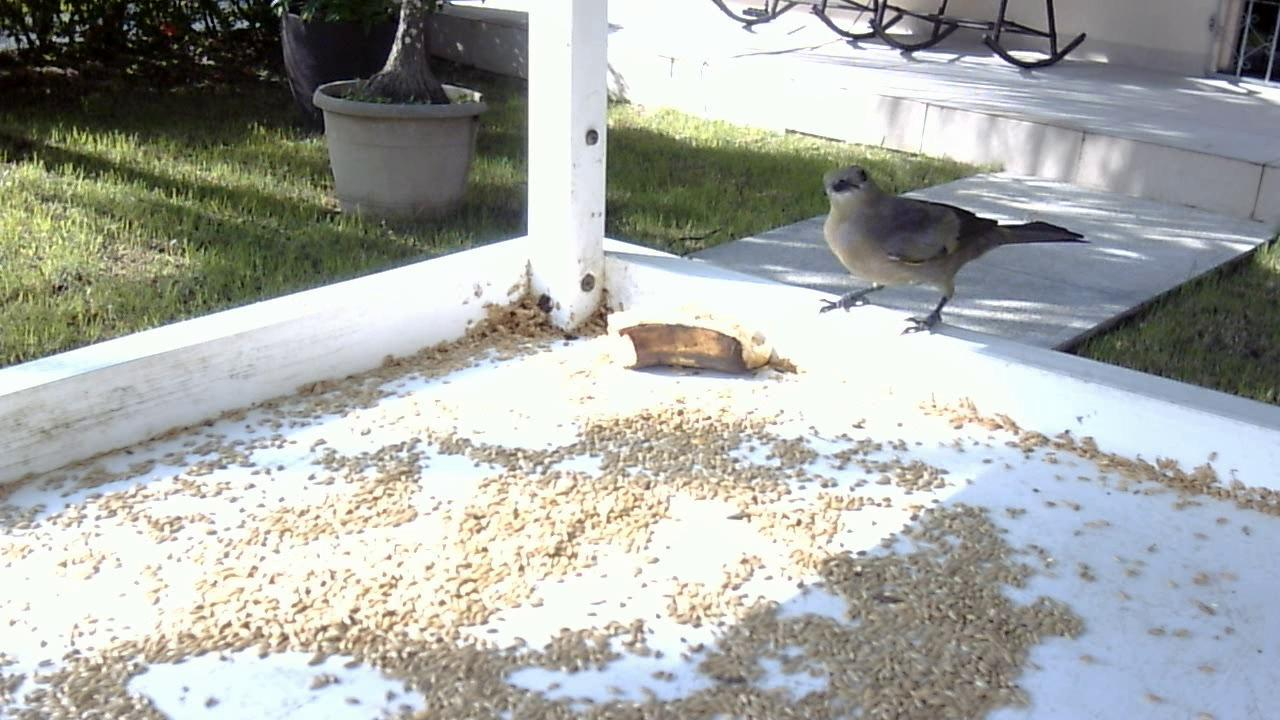sanhaco_do_coqueiro: (818, 151, 1084, 349)
